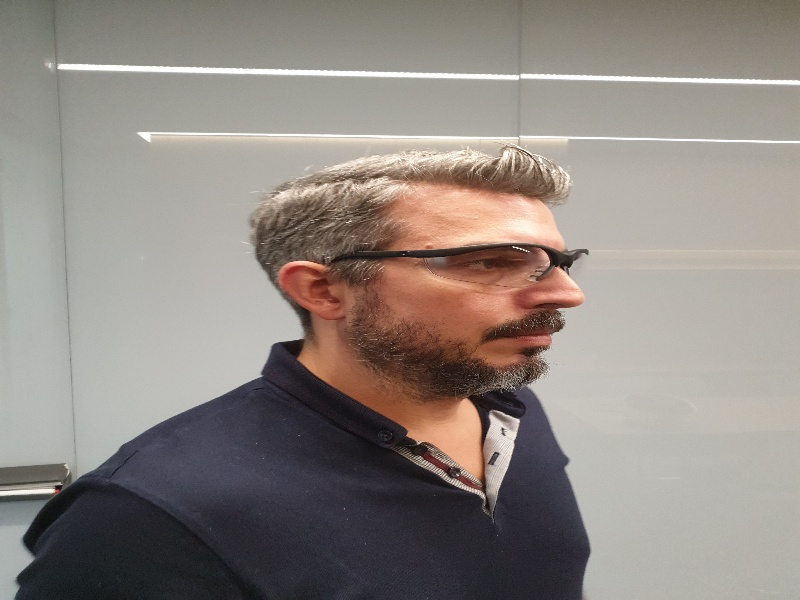Gozluk: (319, 243, 593, 286)
